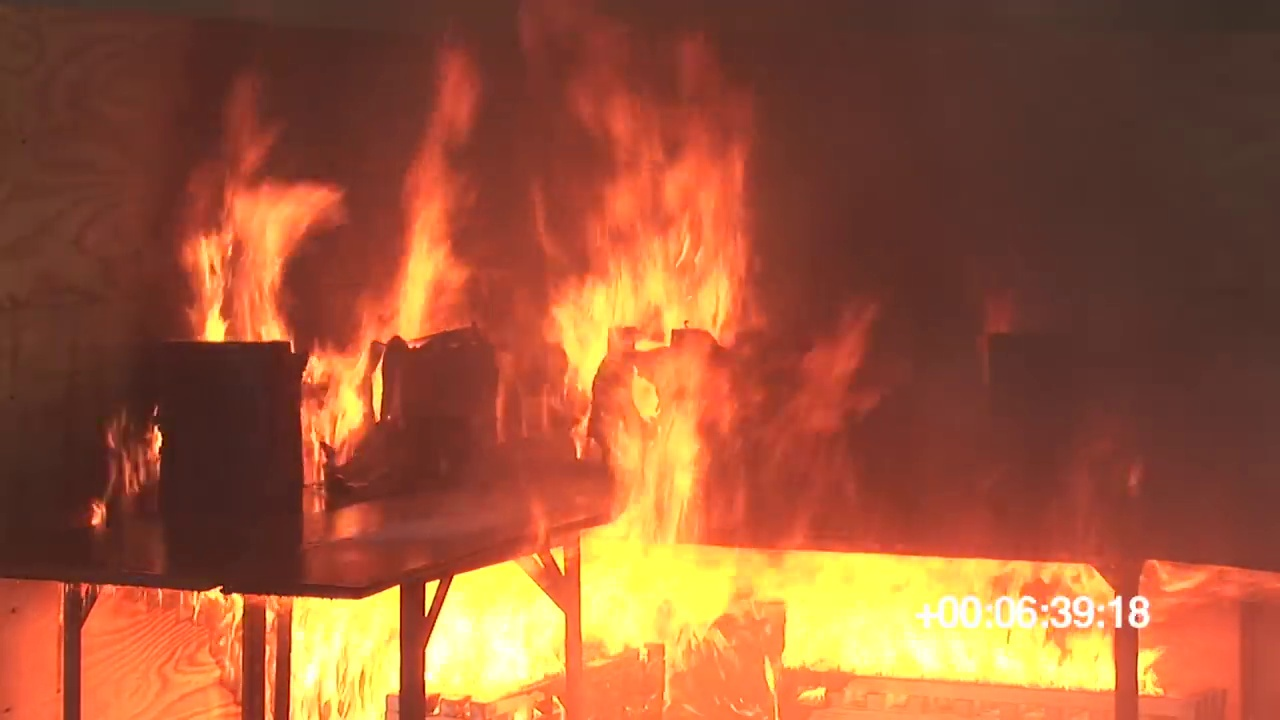fire: (559, 39, 752, 517), (794, 590, 1164, 694), (189, 159, 329, 345), (385, 62, 472, 324), (306, 343, 367, 457)
